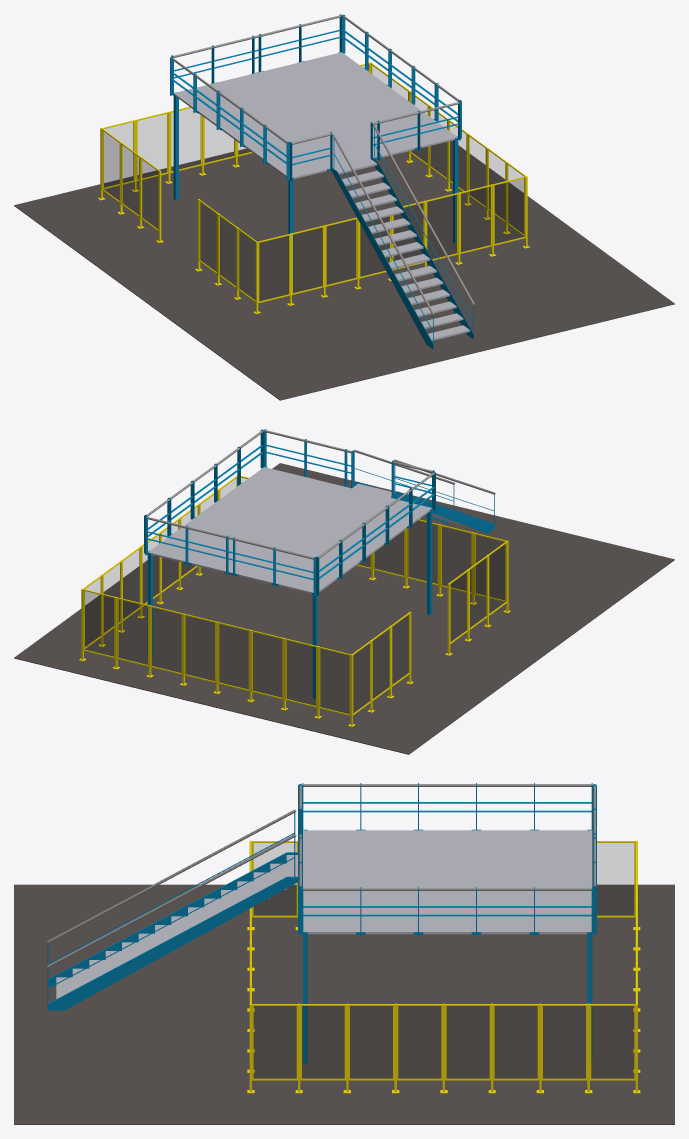
The model's file is 085-glb.glb.
3 views of the same model, one above another, from view 1: azimuth 30°, elevation 25°; view 2: azimuth 150°, elevation 25°; view 3: azimuth 270°, elevation 25° (orthographic). The views are drawn at different scales.
Parts seen in each view (by area): view 1: Box001, deco; view 2: Box001, deco; view 3: Box001, deco.
Boxes of the visible parts, x1=… form: Box001: x1=14, y1=140, x2=674, y2=400; deco: x1=98, y1=14, x2=529, y2=349; Box001: x1=14, y1=463, x2=674, y2=754; deco: x1=79, y1=429, x2=510, y2=726; Box001: x1=14, y1=884, x2=674, y2=1124; deco: x1=46, y1=783, x2=640, y2=1093.
Bounding box in the file's own units: 11.74 × 4.07 × 13.7.
